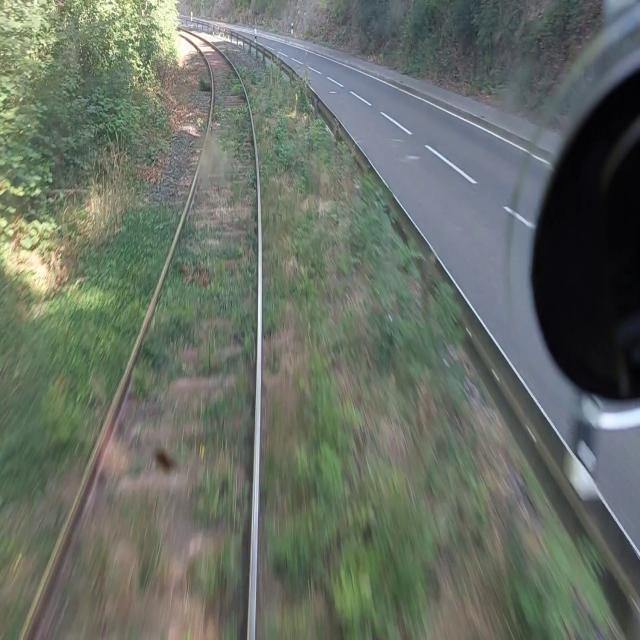Plant: (63, 201, 178, 461), (129, 212, 217, 409), (229, 50, 284, 343), (172, 383, 256, 535), (82, 491, 164, 639), (262, 398, 307, 601), (162, 55, 211, 207), (183, 533, 247, 634), (218, 225, 257, 366), (213, 77, 255, 167)
